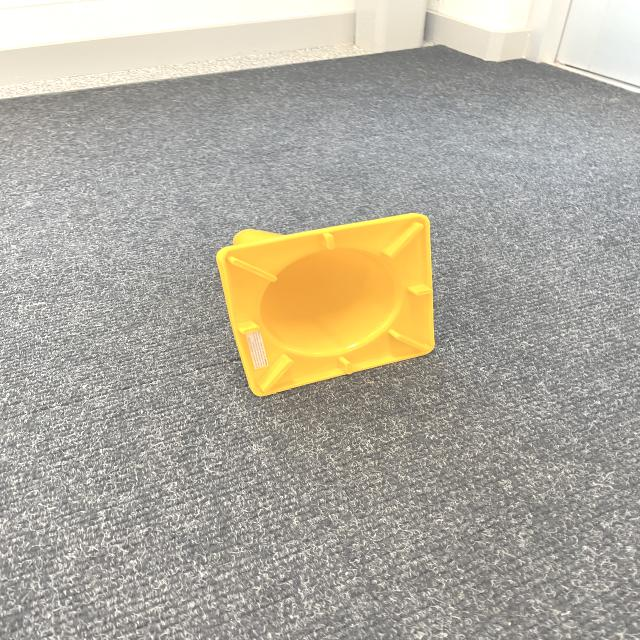frc_cone: (214, 204, 450, 401)
